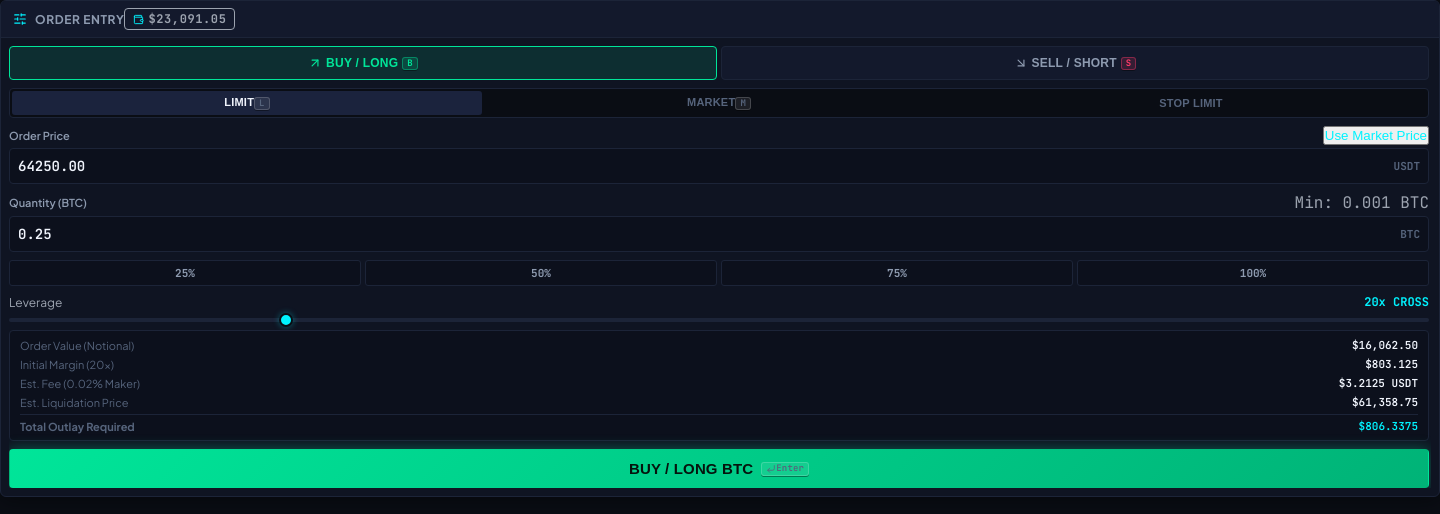
Test: Phase 8 — Order Form Feature › calculates order notional, margin, fees, and liquidation price correctly in summary
Replace the text in the number field labelled "Order Price" with "60000" at [706, 166], box [18,149,1394,183]
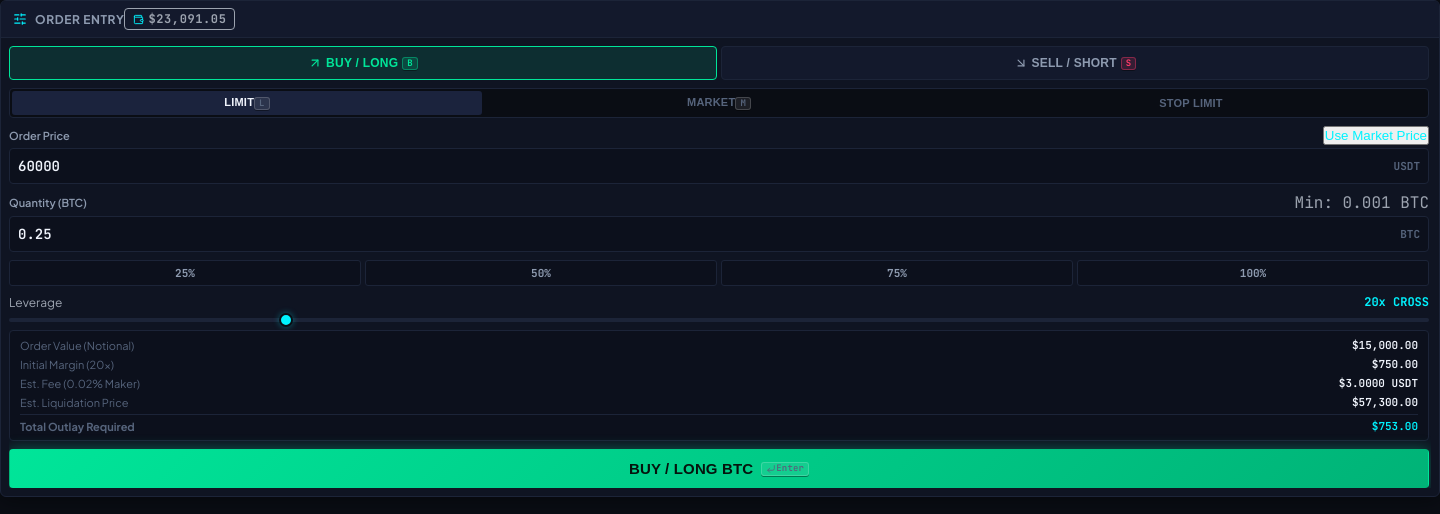
Replace the text in the number field labelled "Quantity (BTC)" with "1.0" at [709, 234], box [18,217,1400,251]
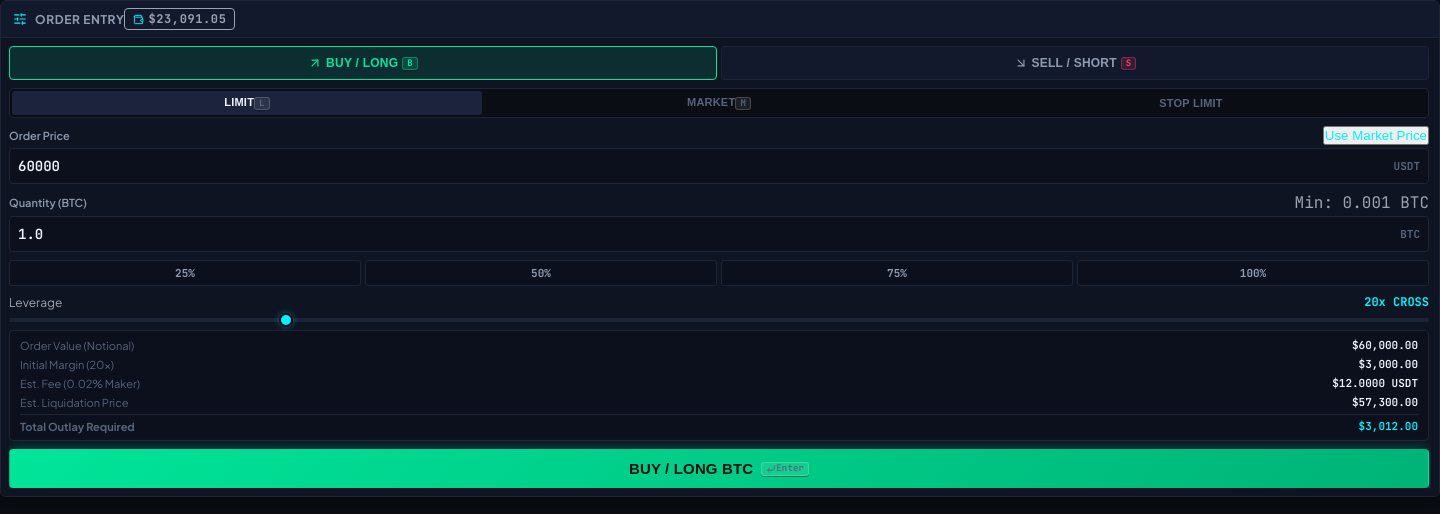
Expected: the element with test id "order-summary" shows "$60,000.00", [9,330,1429,441]
Expected: the element with test id "order-summary" shows "$3,000.00", [9,330,1429,441]
Expected: the element with test id "order-summary" shows "$12.0000 USDT", [9,330,1429,441]
